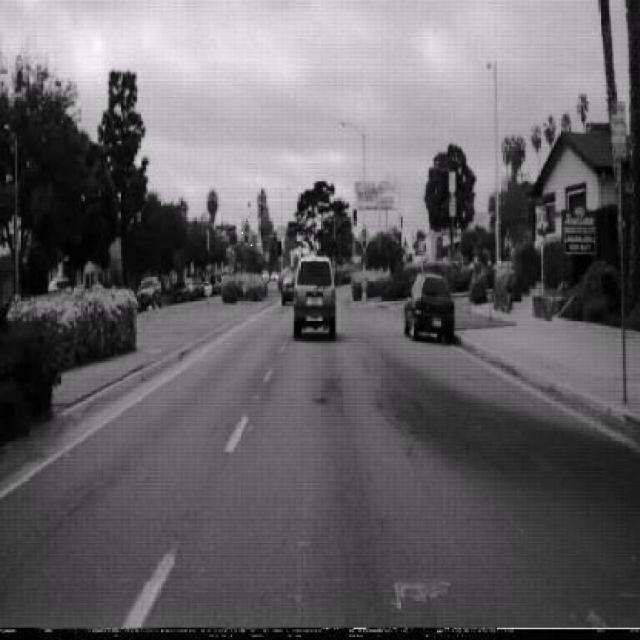signalAhead: (238, 220, 254, 248), (357, 223, 371, 251)
